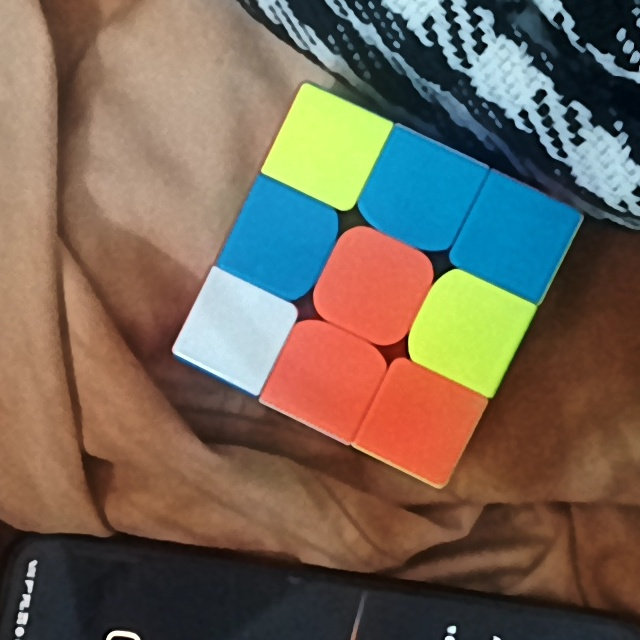tile: (478, 202, 553, 279), (291, 336, 364, 413), (434, 289, 506, 367), (380, 387, 465, 453), (382, 154, 458, 227), (336, 247, 406, 326), (244, 205, 314, 279), (200, 294, 272, 363), (295, 113, 366, 182)
